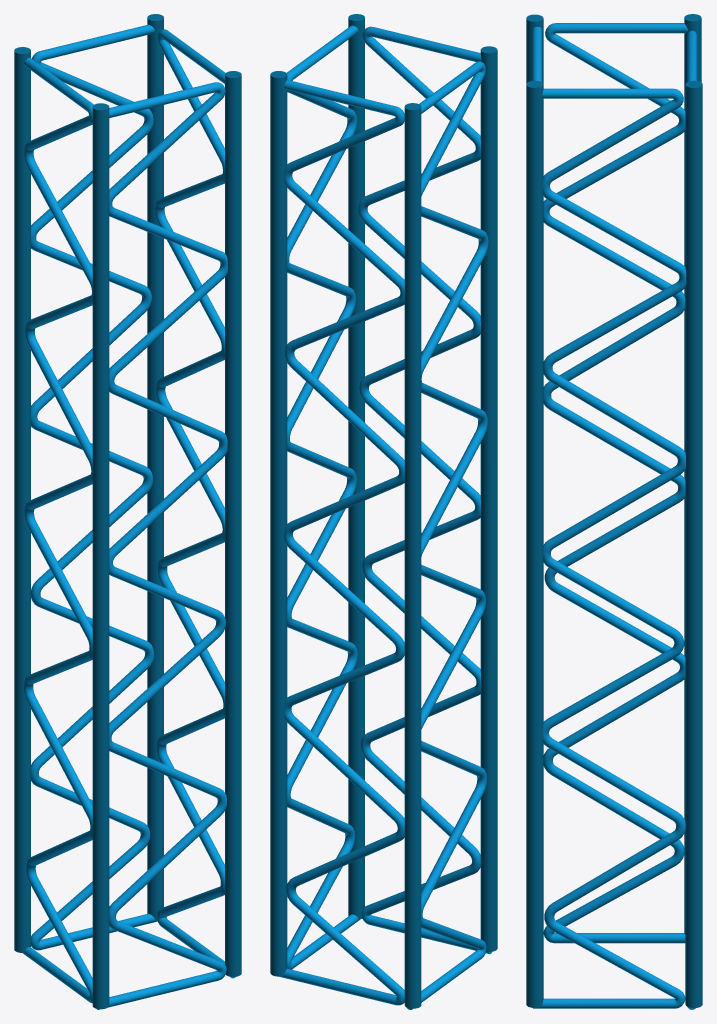
File: SupportAd_MESH.fbx
3 views of the same model, side by side, from view 1: azimuth 30°, elevation 25°; view 2: azimuth 150°, elevation 25°; view 3: azimuth 270°, elevation 25° (orthographic). The views are drawn at different scales.
Parts seen in each view (by area): view 1: Cylinder052; view 2: Cylinder052; view 3: Cylinder052.
Part boxes in pixels (box(x1,y1,x2,y2)): Cylinder052: box(14, 14, 241, 1009); Cylinder052: box(270, 14, 497, 1009); Cylinder052: box(526, 14, 702, 1009).
Bounding box in the file's own units: 23.46 × 136 × 23.63.
